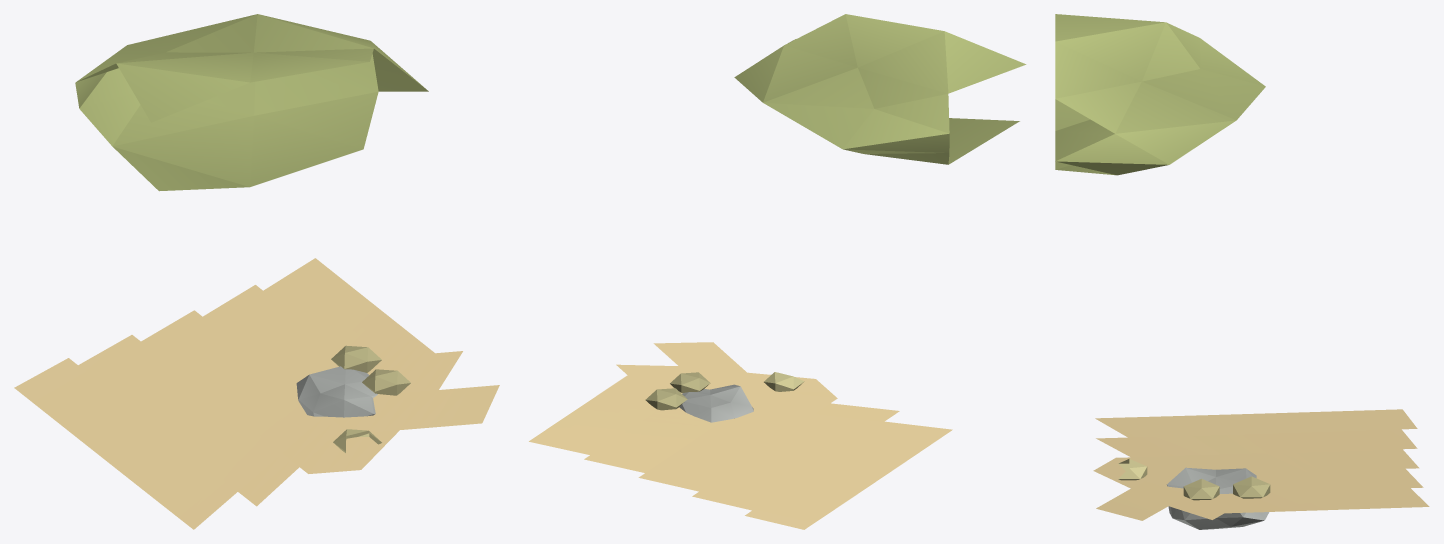
The model's file is hex52-crop.glb.
The picture shows the model from 3 angles, left to right: view 1: azimuth 30°, elevation 25°; view 2: azimuth 150°, elevation 25°; view 3: azimuth 270°, elevation 25°; orthographic projection. The views are drawn at different scales.
Parts seen in each view (by area): view 1: terrain, broadleaf_canopy, boulders, shrubs; view 2: terrain, broadleaf_canopy, boulders, shrubs; view 3: terrain, broadleaf_canopy, boulders, shrubs.
Part boxes in pixels (x1=…): terrain: x1=14, y1=258, x2=499, y2=529; broadleaf_canopy: x1=75, y1=14, x2=428, y2=191; boulders: x1=296, y1=366, x2=377, y2=417; shrubs: x1=331, y1=345, x2=410, y2=452; terrain: x1=529, y1=342, x2=952, y2=529; broadleaf_canopy: x1=734, y1=14, x2=1026, y2=164; boulders: x1=679, y1=384, x2=753, y2=422; shrubs: x1=645, y1=372, x2=804, y2=410; terrain: x1=1093, y1=409, x2=1429, y2=520; broadleaf_canopy: x1=1055, y1=14, x2=1265, y2=175; boulders: x1=1166, y1=467, x2=1269, y2=529; shrubs: x1=1118, y1=459, x2=1270, y2=500.
Bounding box in the file's own units: 153 × 172 × 144.
